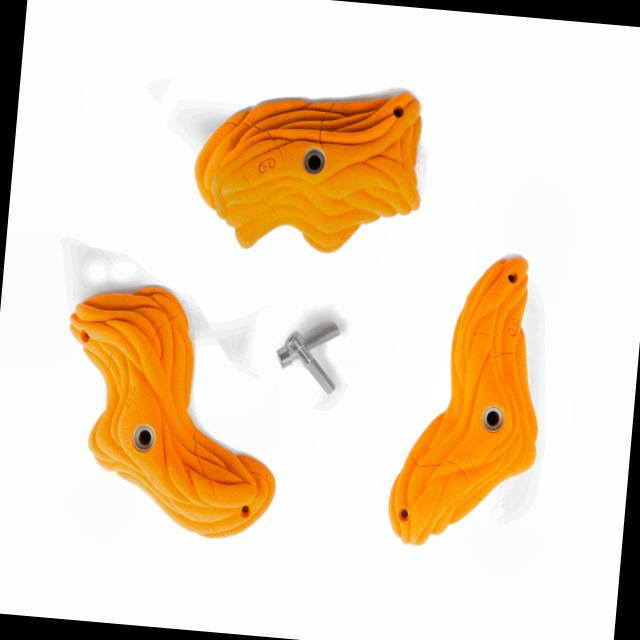Hold: (50, 279, 296, 548), (382, 243, 550, 556), (185, 76, 432, 265)
